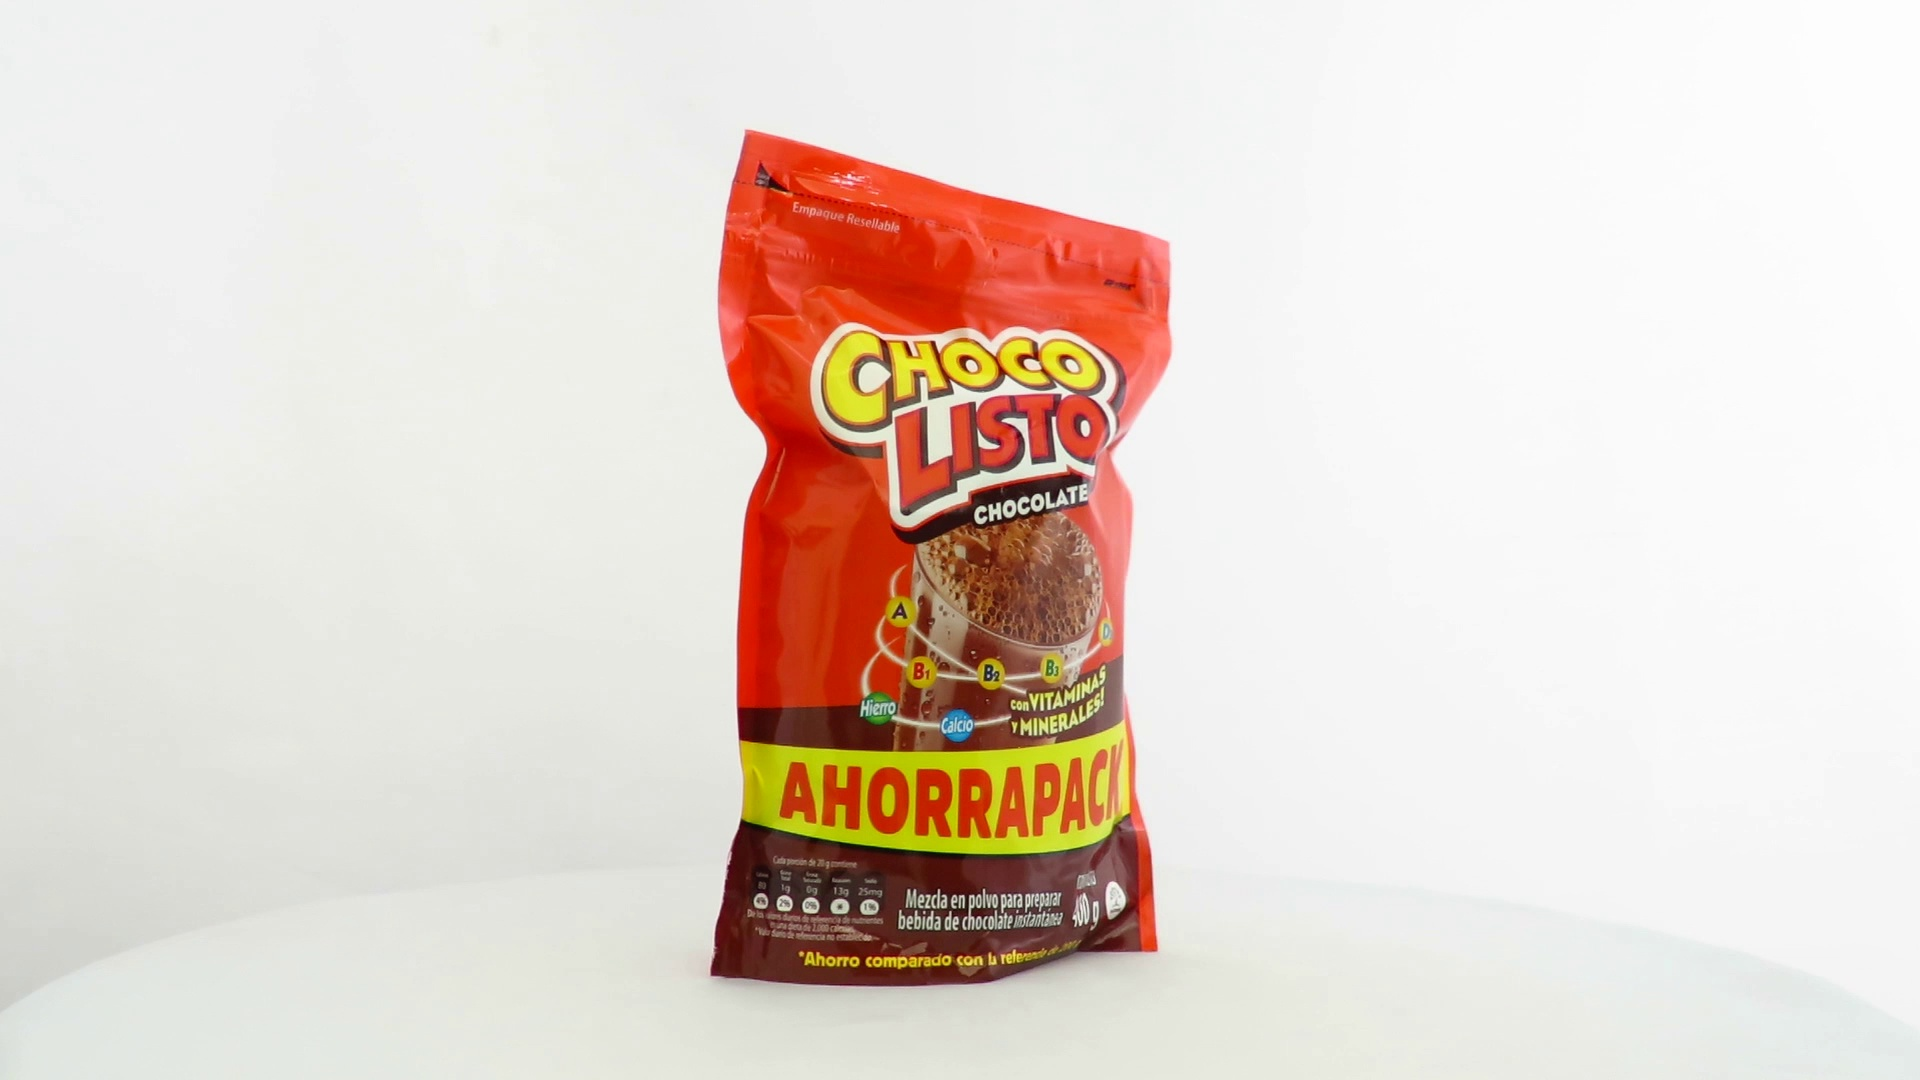COL0170103DYP40000: (705, 124, 1178, 993)
